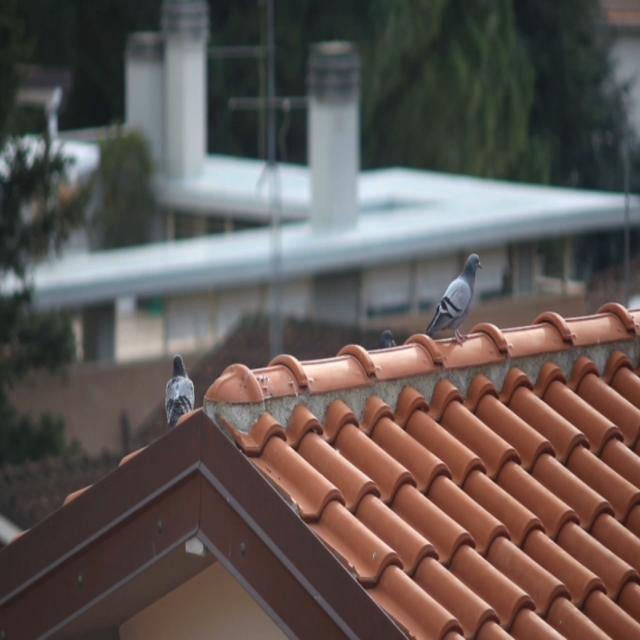bird: (418, 233, 488, 363), (155, 339, 200, 440), (369, 316, 400, 366)
